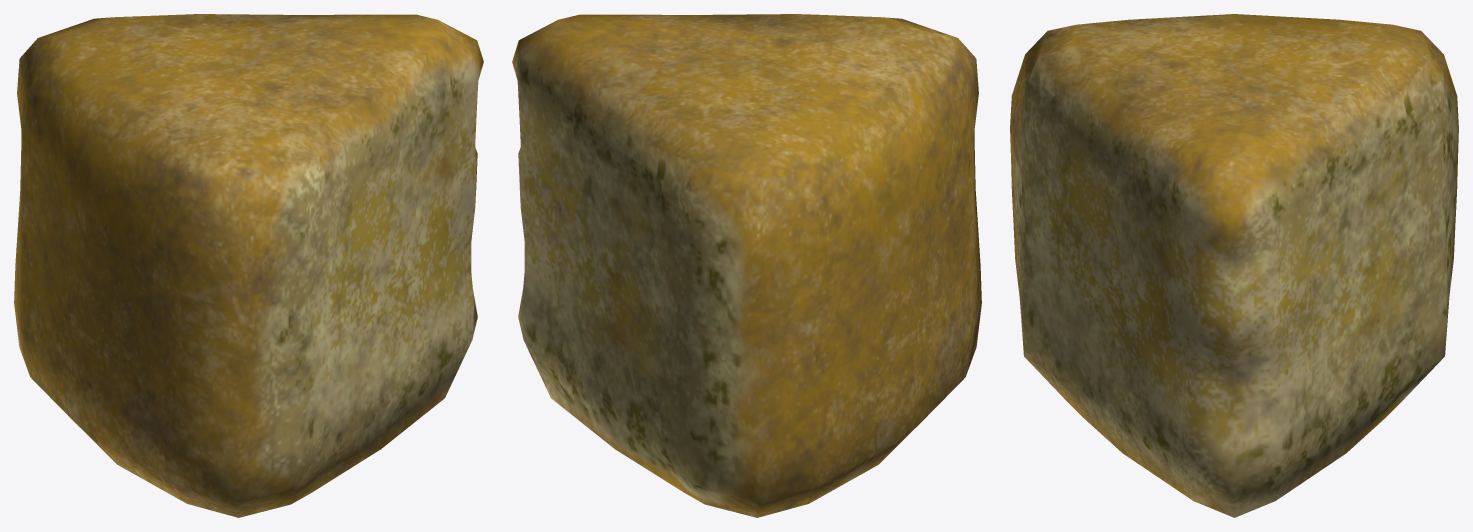
Rendered from CAMP_cheese_slice.fbx.
3 renders of one model, left to right at view 1: azimuth 30°, elevation 25°; view 2: azimuth 150°, elevation 25°; view 3: azimuth 270°, elevation 25°, orthographic. The views are drawn at different scales.
Parts seen in each view (by area): view 1: CAMP_cheese_slice; view 2: CAMP_cheese_slice; view 3: CAMP_cheese_slice.
Part boxes in pixels (x1,y1,x2,y2): CAMP_cheese_slice: [14, 14, 483, 517]; CAMP_cheese_slice: [512, 14, 981, 517]; CAMP_cheese_slice: [1010, 14, 1458, 517].
Bounding box in the file's own units: 15.64 × 13.99 × 15.78.
